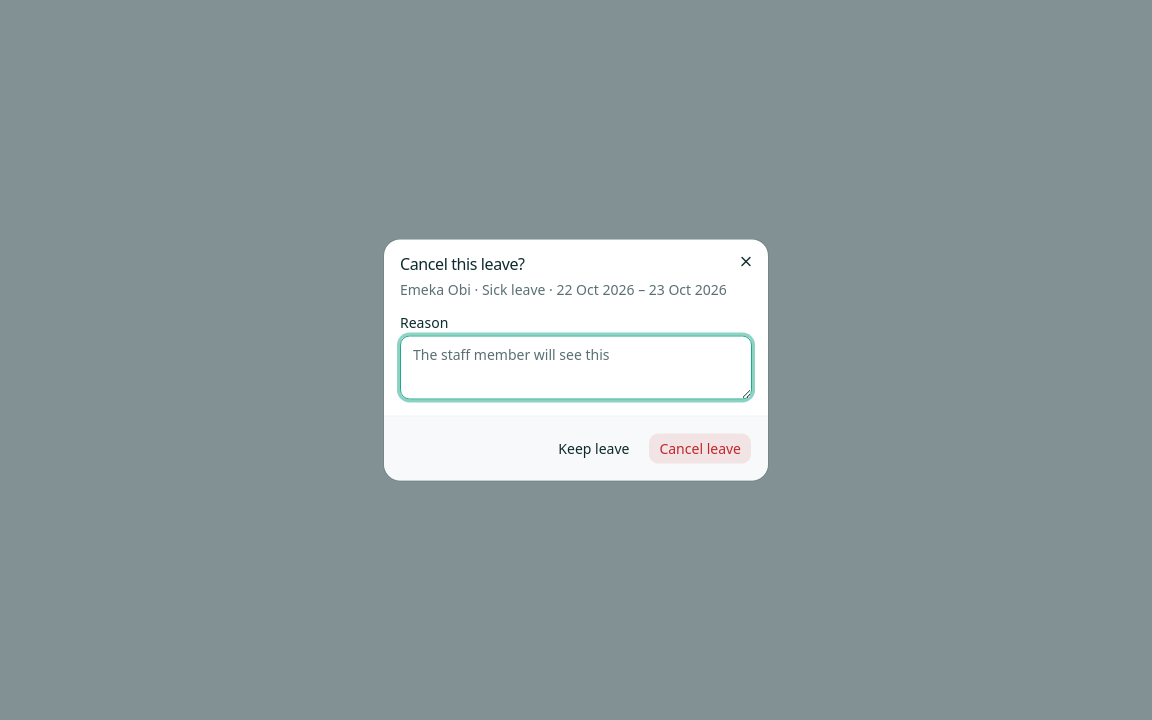
Test: CancelLeaveDialog › shows the server’s message when the leave can no longer be cancelled
Step 1. Type "Too late" into the text box labelled "Reason" → (576, 368), box x1=400 y1=336 x2=752 y2=400
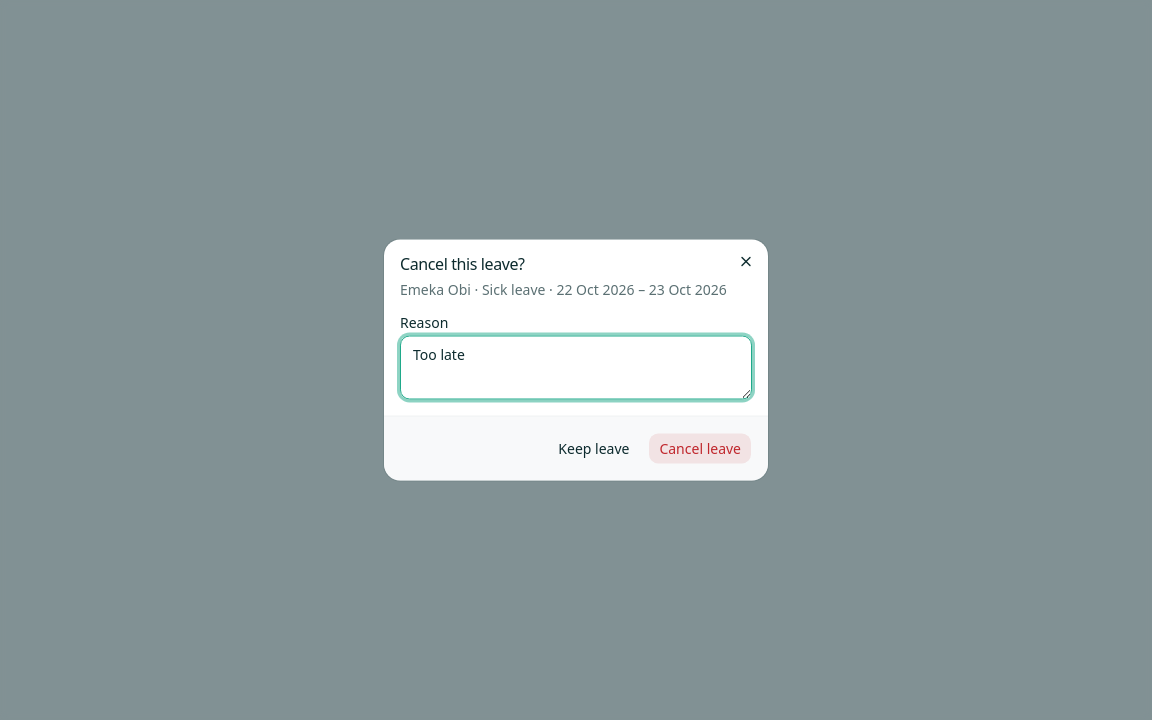
Step 2. Click the button "Cancel leave" → (700, 448), box x1=648 y1=432 x2=752 y2=464
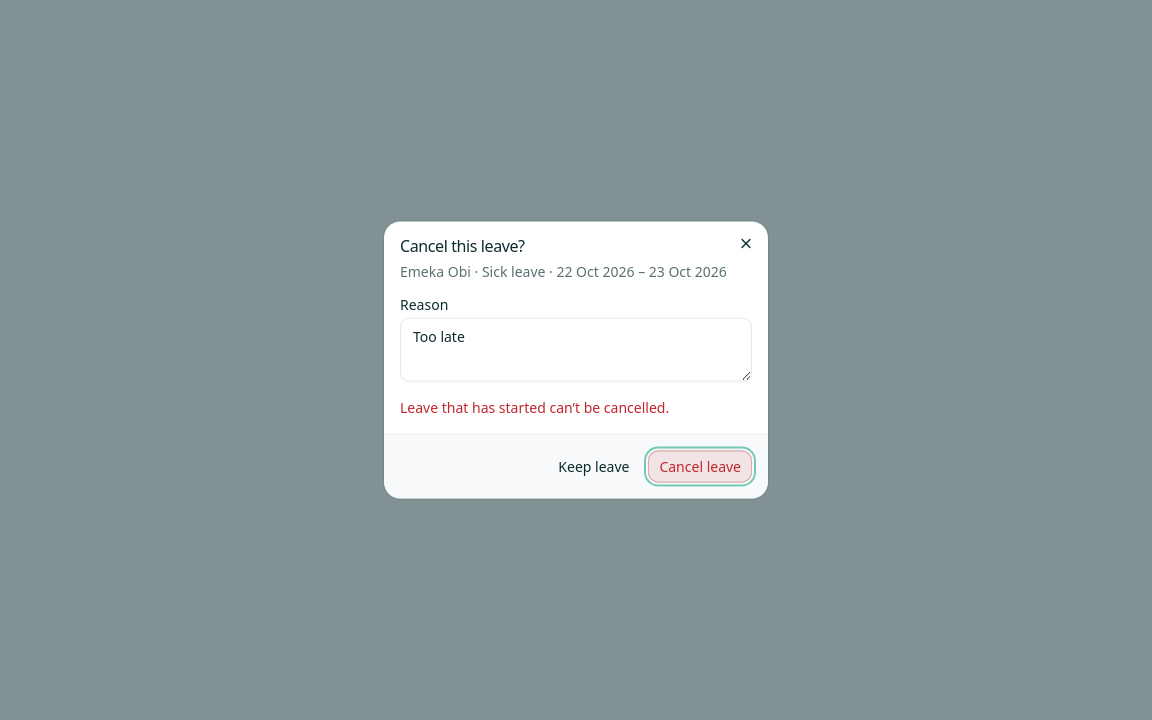
Check: the text "Leave that has started can’t be cancelled." is shown, box x1=400 y1=398 x2=669 y2=416
